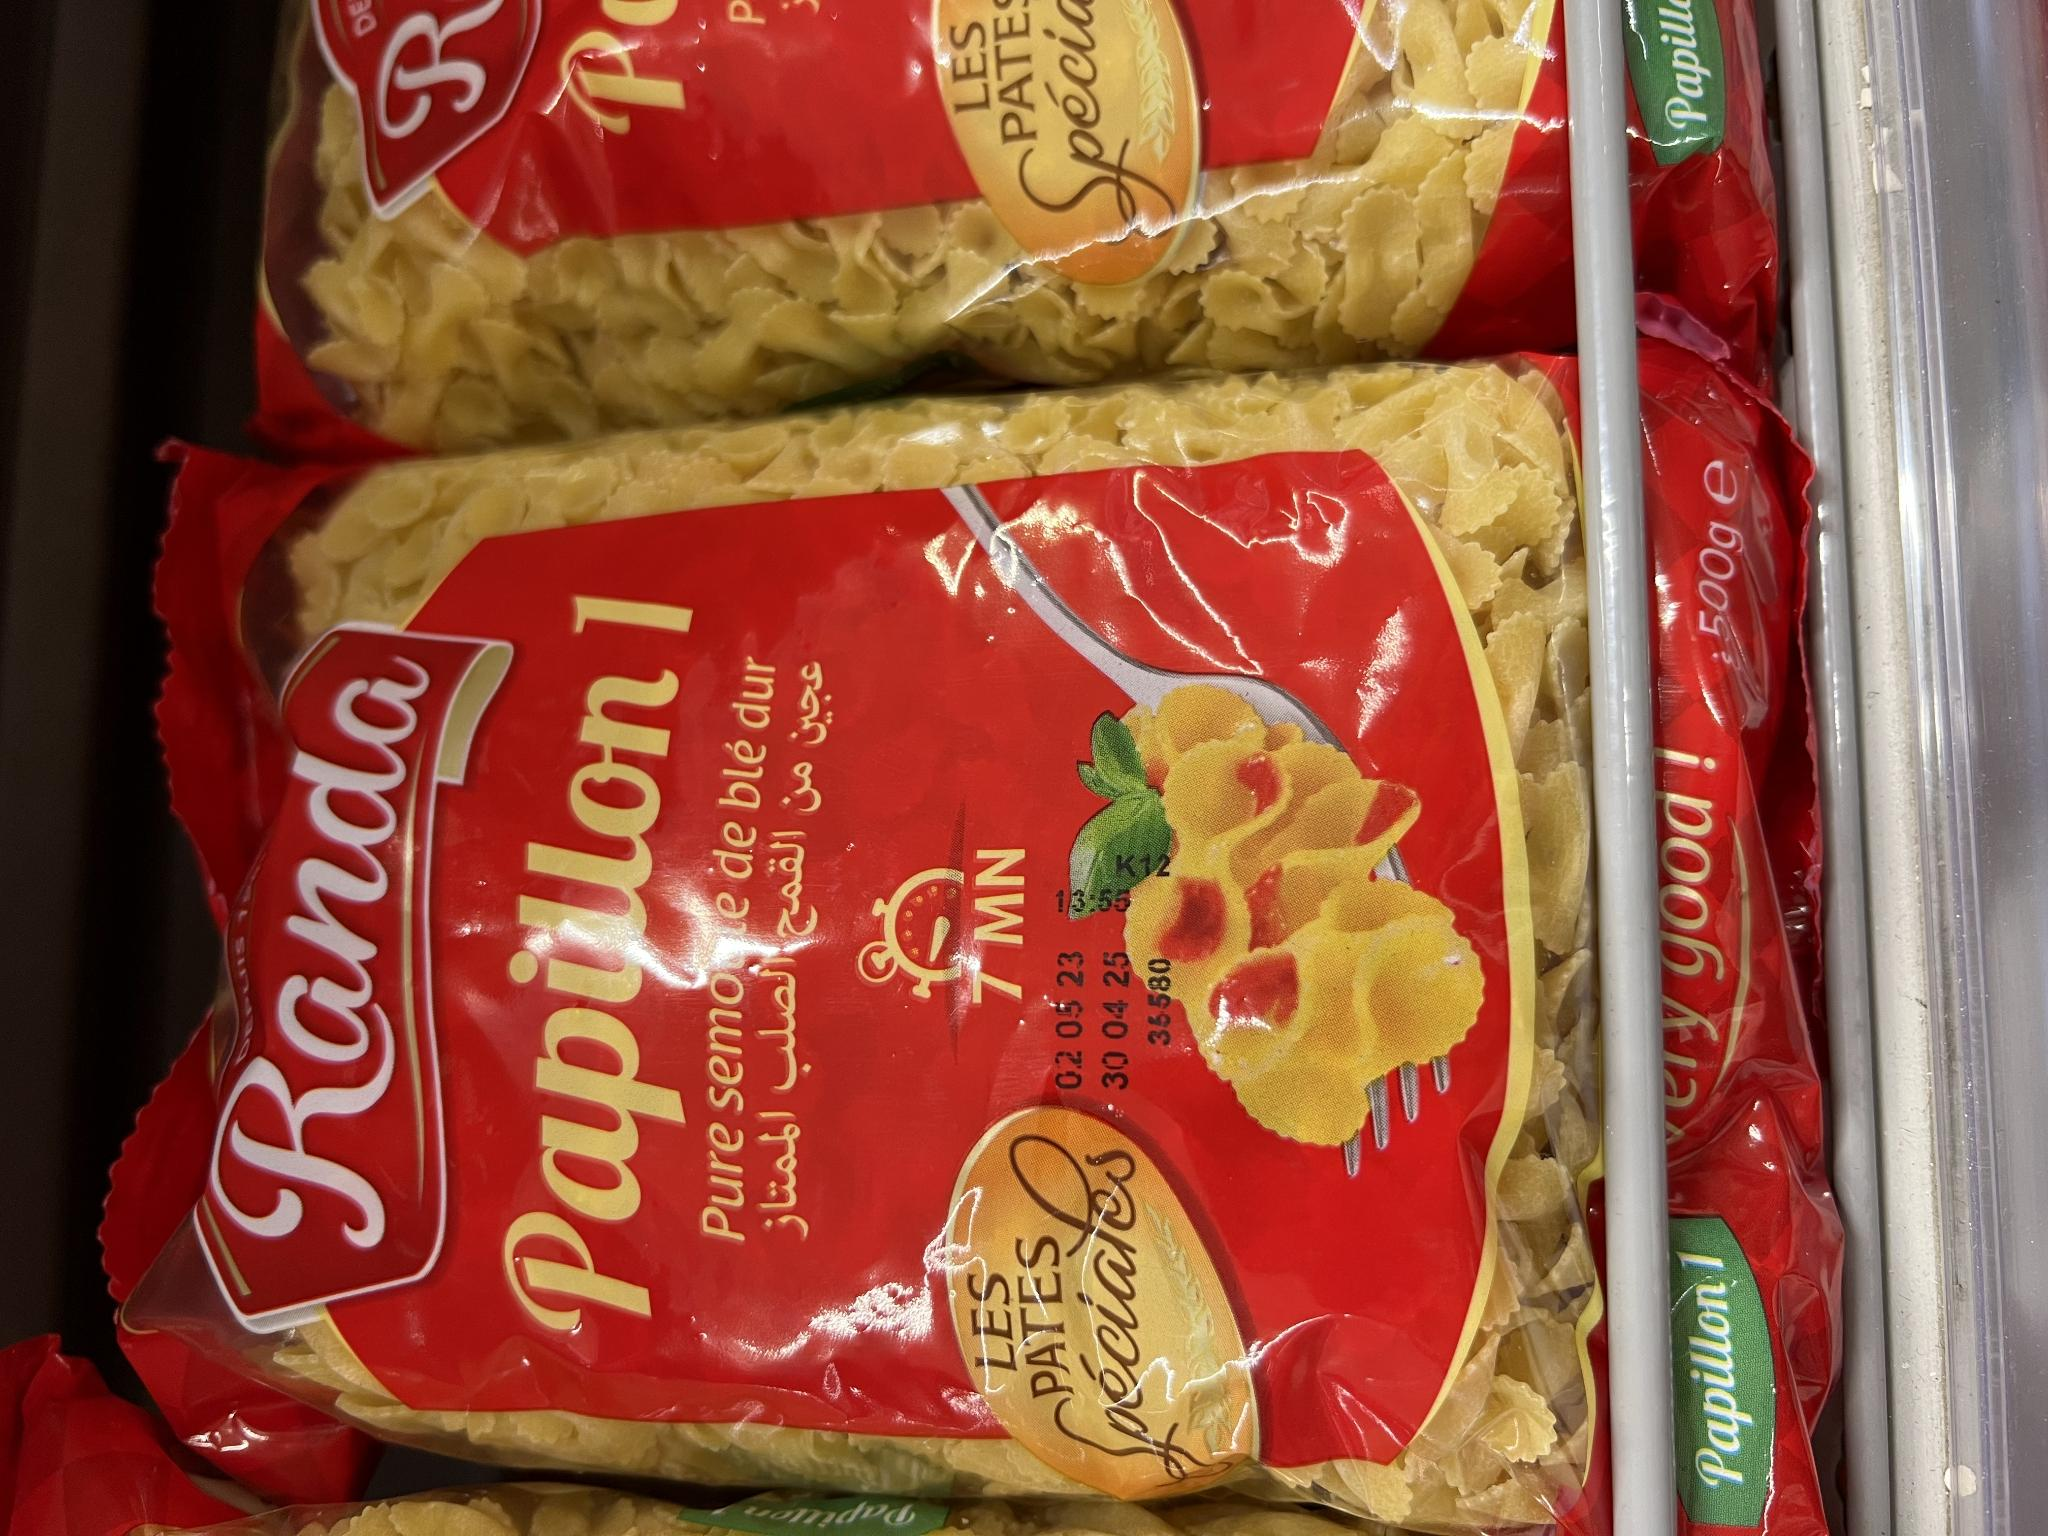Papillon: (174, 336, 1813, 1523), (284, 10, 1779, 410)
